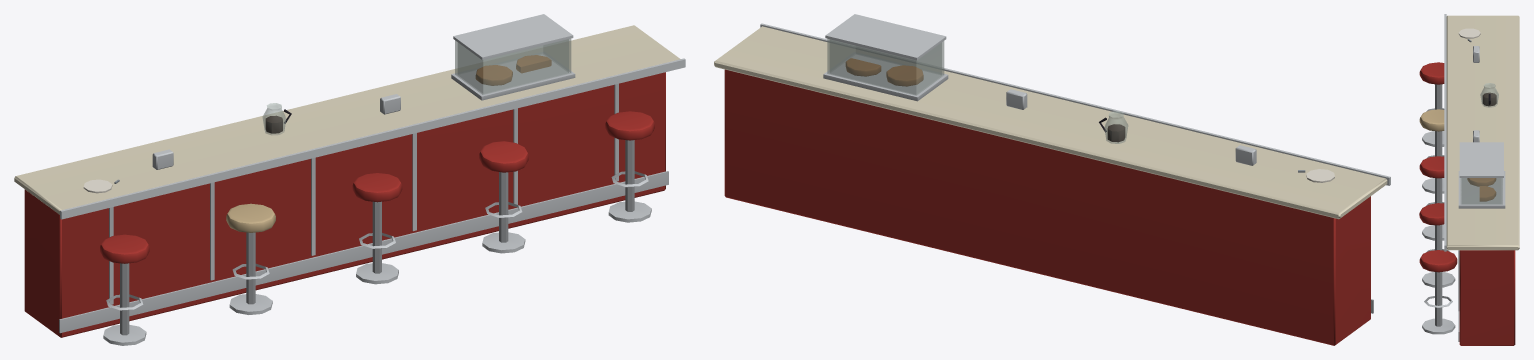
The model's file is counter_diner.glb.
3 renders of one model, left to right at view 1: azimuth 30°, elevation 25°; view 2: azimuth 150°, elevation 25°; view 3: azimuth 270°, elevation 25°, orthographic. The views are drawn at different scales.
Parts seen in each view (by area): view 1: counter_diner; view 2: counter_diner; view 3: counter_diner.
Part boxes in pixels (x1,y1,x2,y2): counter_diner: [14, 14, 685, 345]; counter_diner: [714, 14, 1390, 345]; counter_diner: [1419, 14, 1519, 345].
Size of the model in its own units: 4.94 by 1.35 by 0.9038.
